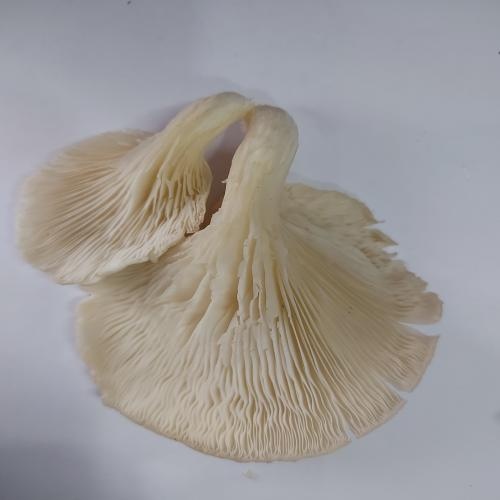Oyster Mushroom: (15, 91, 444, 464)
